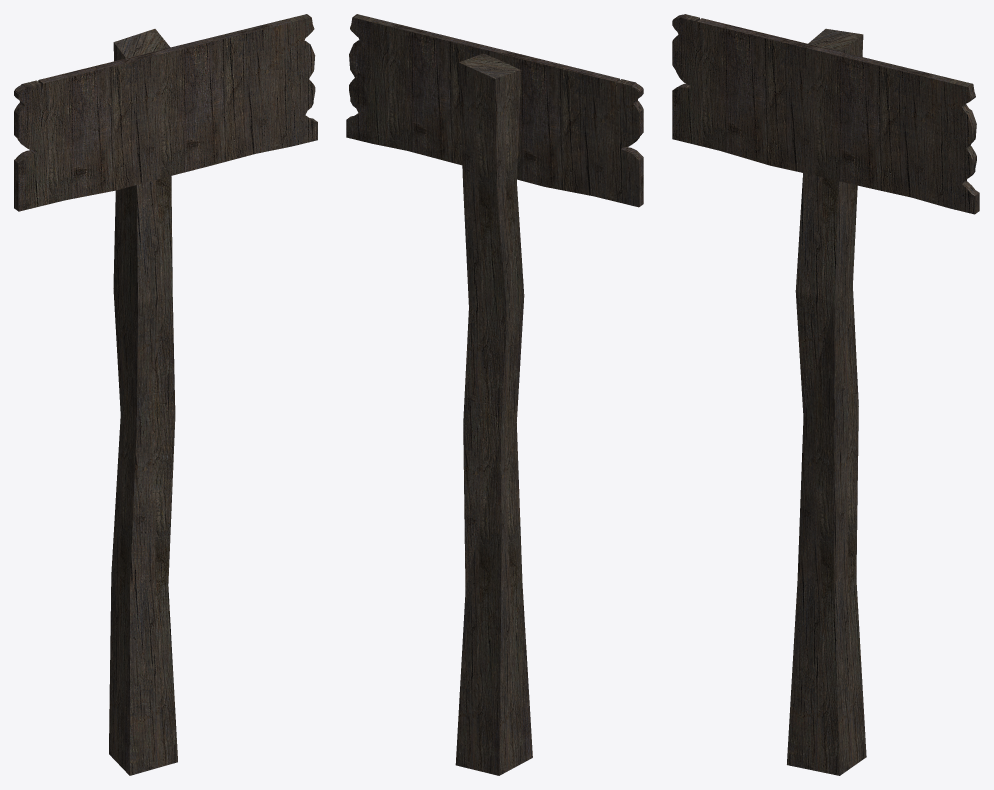
File: Sign 3.fbx
3 views of the same model, side by side, from view 1: azimuth 30°, elevation 25°; view 2: azimuth 150°, elevation 25°; view 3: azimuth 330°, elevation 25° (orthographic). The views are drawn at different scales.
Parts seen in each view (by area): view 1: Model; view 2: Model; view 3: Model.
Part boxes in pixels (x1=…): Model: x1=14, y1=14, x2=317, y2=775; Model: x1=346, y1=14, x2=643, y2=775; Model: x1=672, y1=14, x2=979, y2=775.
Bounding box in the file's own units: 36.42 × 83.34 × 6.07.
